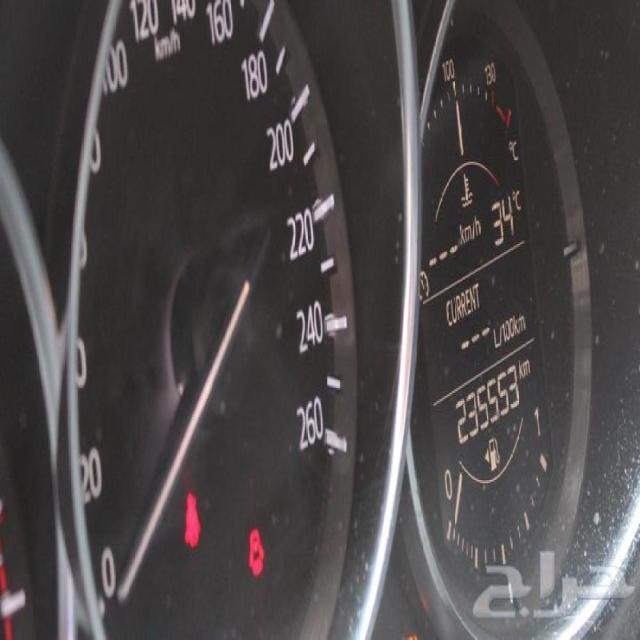Seat Belt: (182, 492, 203, 546)
